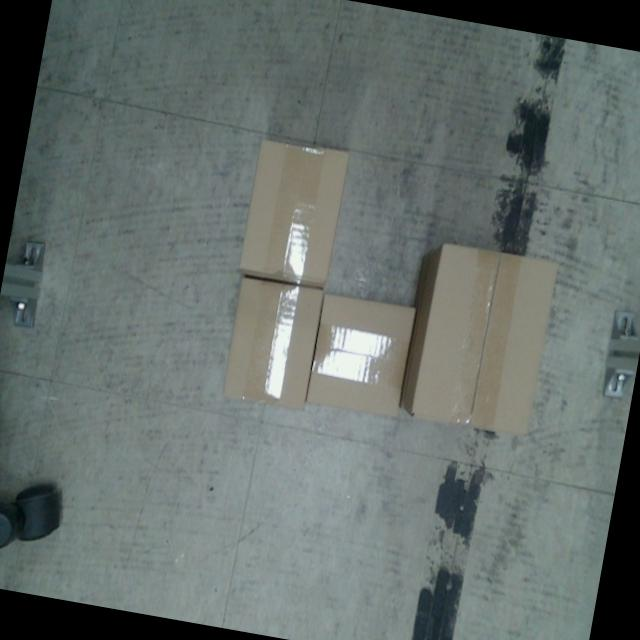box: (400, 236, 564, 436), (234, 133, 354, 287), (215, 275, 325, 417), (302, 290, 418, 418)
